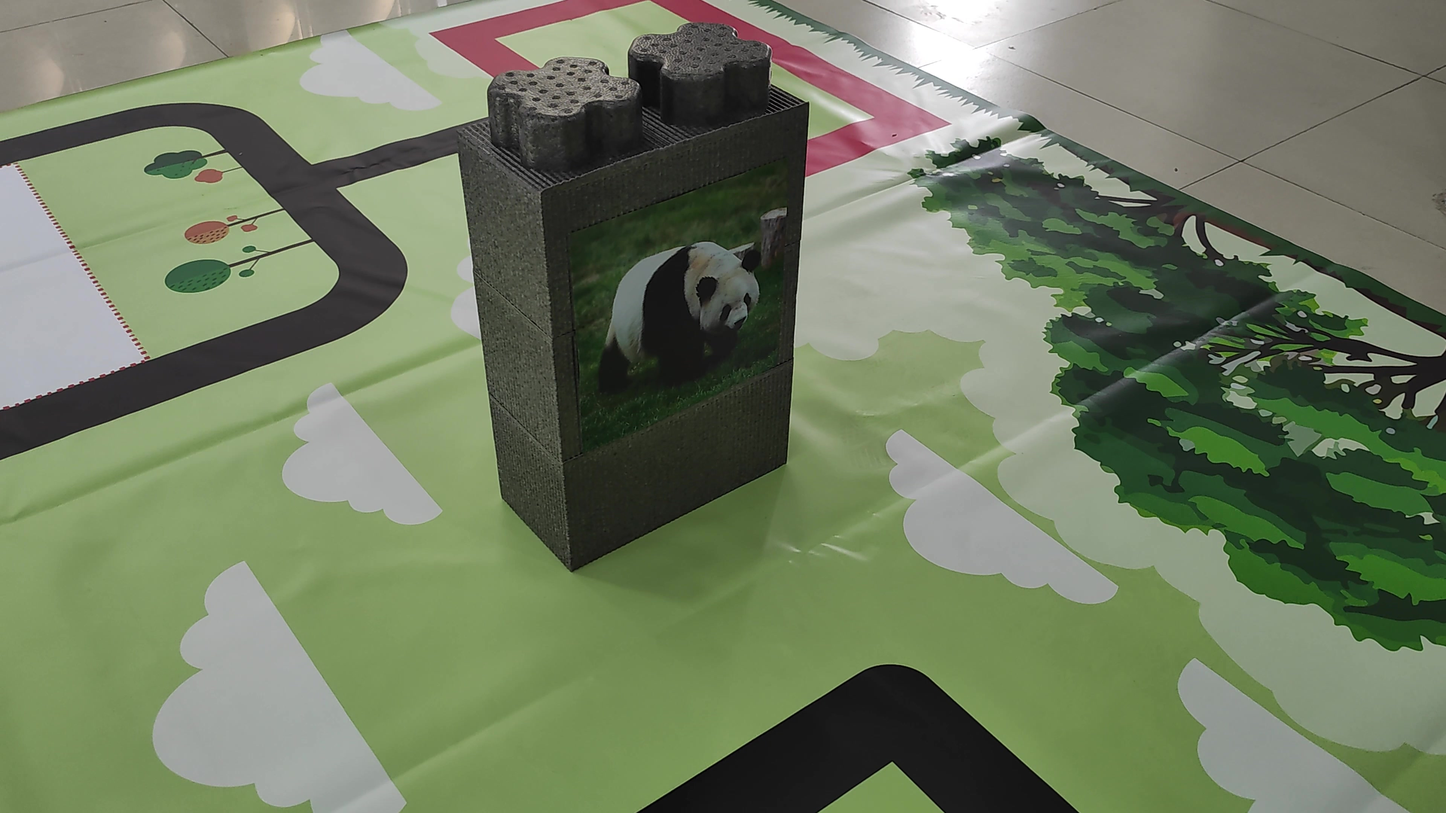panda: (583, 204, 798, 415)
